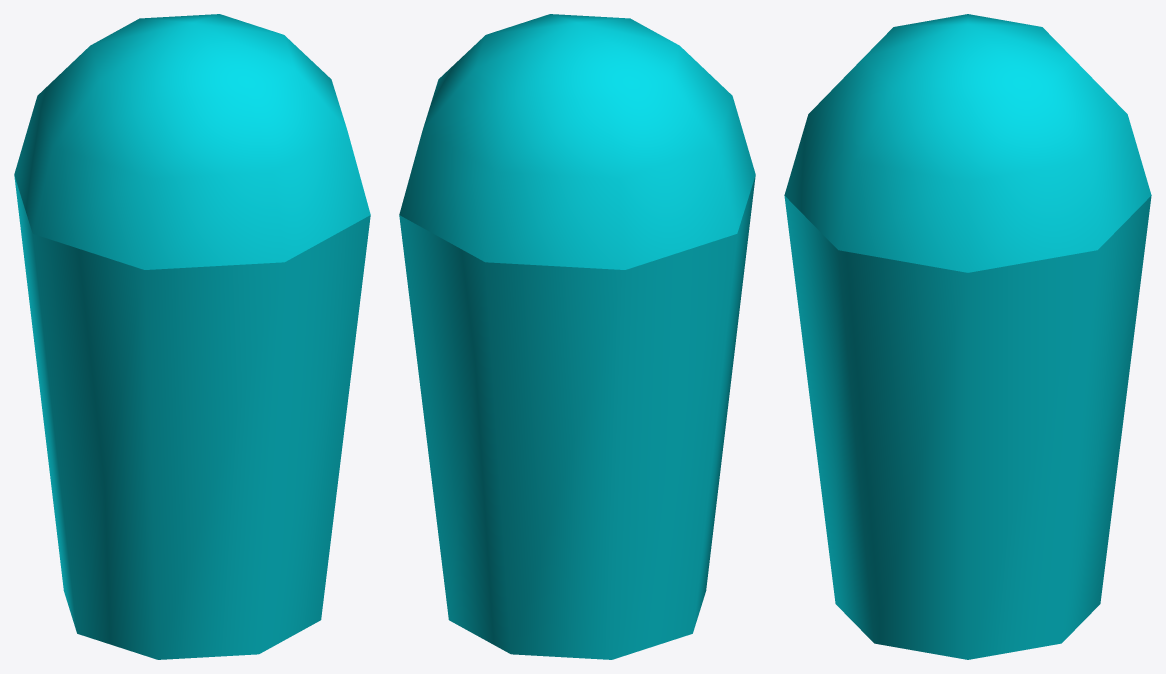
The model's file is Spazzatura_bar.fbx.
The picture shows the model from 3 angles, left to right: view 1: azimuth 30°, elevation 25°; view 2: azimuth 150°, elevation 25°; view 3: azimuth 270°, elevation 25°; orthographic projection.
Parts seen in each view (by area): view 1: spazzatura_bar; view 2: spazzatura_bar; view 3: spazzatura_bar.
Part boxes in pixels (x1,y1,x2,y2): spazzatura_bar: (14, 14, 370, 659); spazzatura_bar: (399, 14, 755, 659); spazzatura_bar: (784, 14, 1151, 659).
Size of the model in its own units: 36.62 by 63.79 by 36.62.
